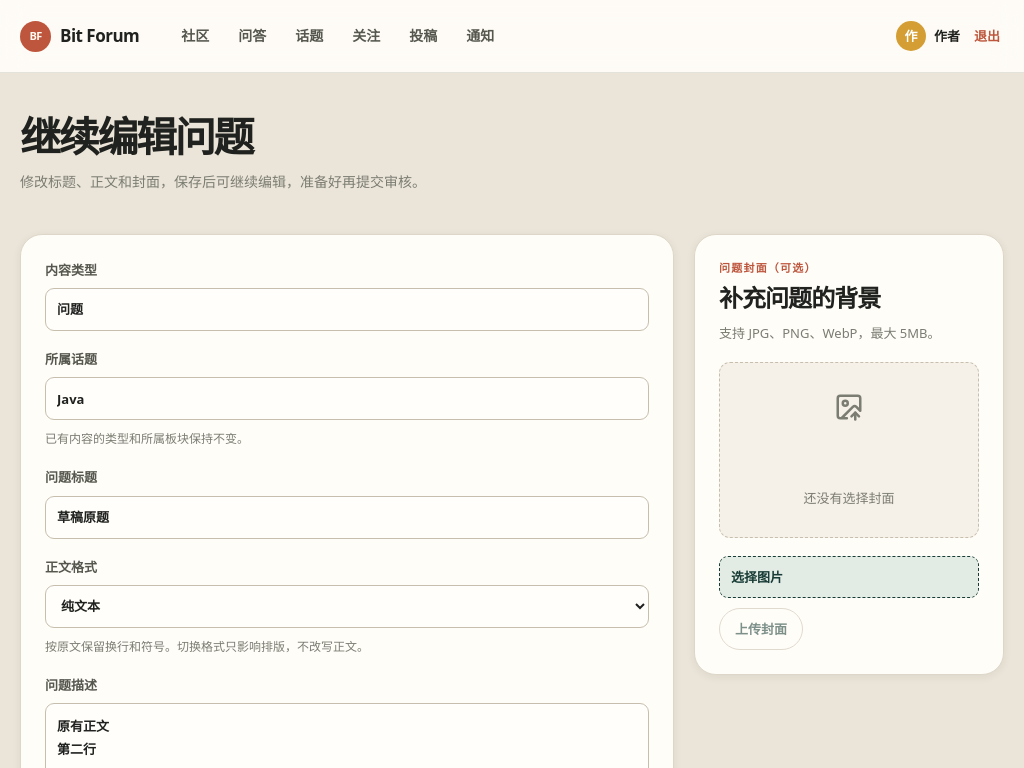
Test: 作者草稿编辑闭环（与实际 App 路由组合） › 问题保持 QUESTION 和话题，不向更新接口发送不可修改的字段
The width and height of the screenshot is (1024, 768).
Replace the text in the field labelled "问题标题" with "问题新标题". click: (347,517)
box: x1=45 y1=496 x2=649 y2=539
(page scrolled)
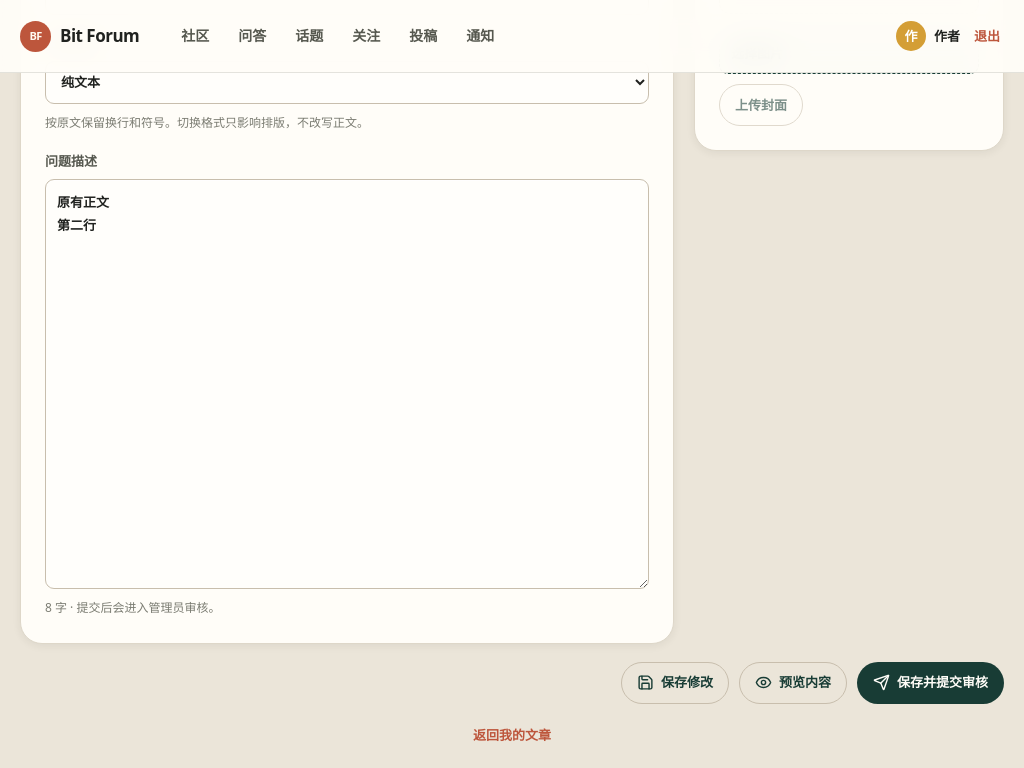
Replace the text in the text box labelled "问题描述" with "尝试过程". click: (347,384)
box: x1=45 y1=179 x2=649 y2=589
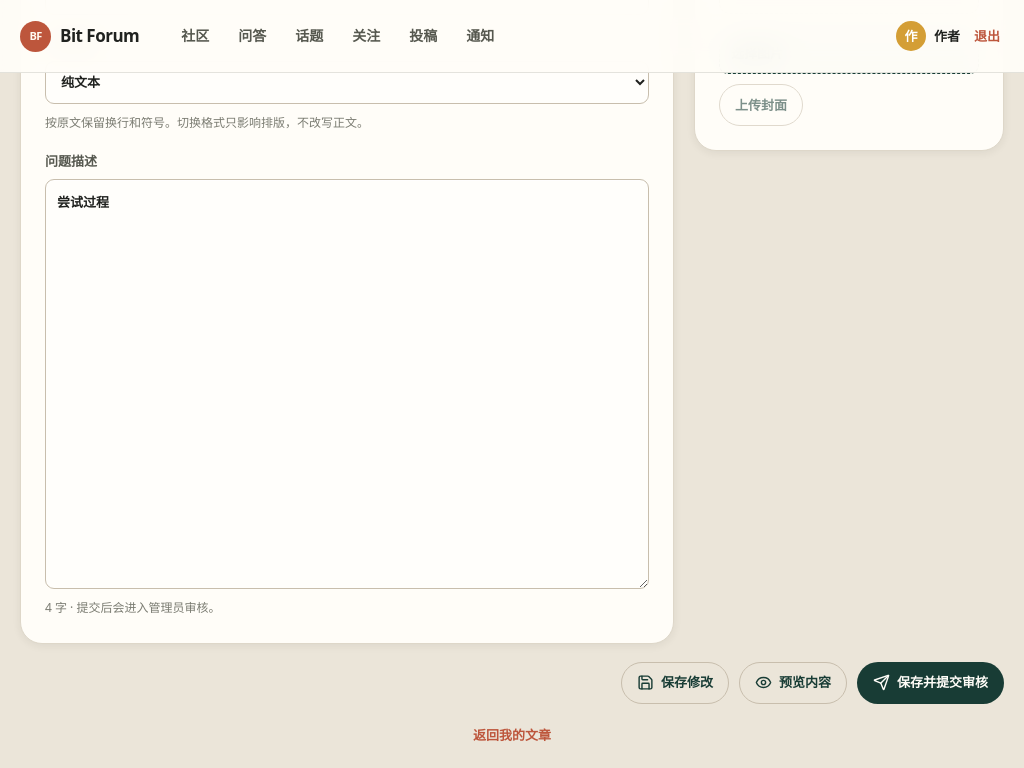
Click the button "保存修改". click: (675,682)
box: x1=621 y1=662 x2=729 y2=704
(page scrolled)
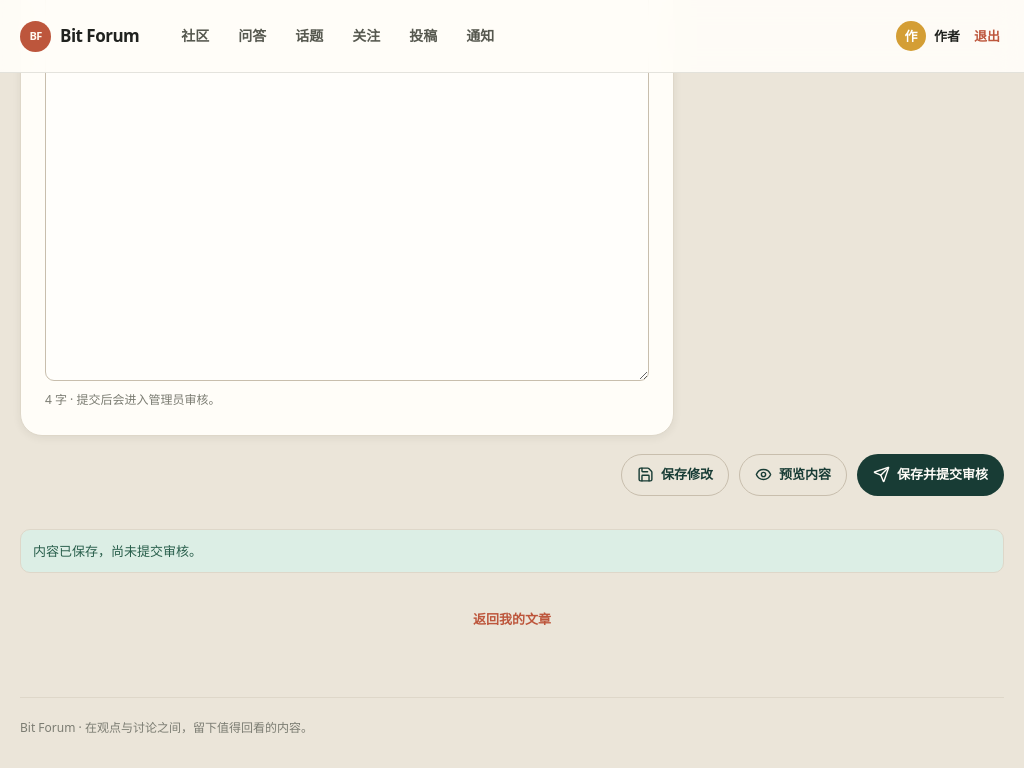
Expected: the text "内容已保存，尚未提交审核。" is shown, x1=20 y1=528 x2=1004 y2=573
